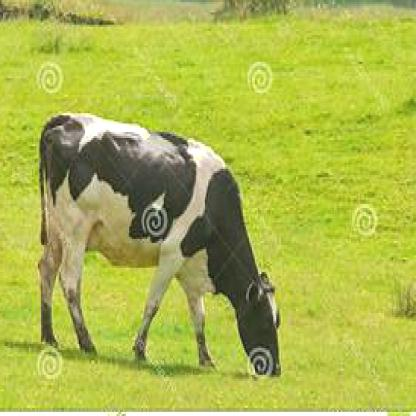cow: (34, 113, 282, 377)
